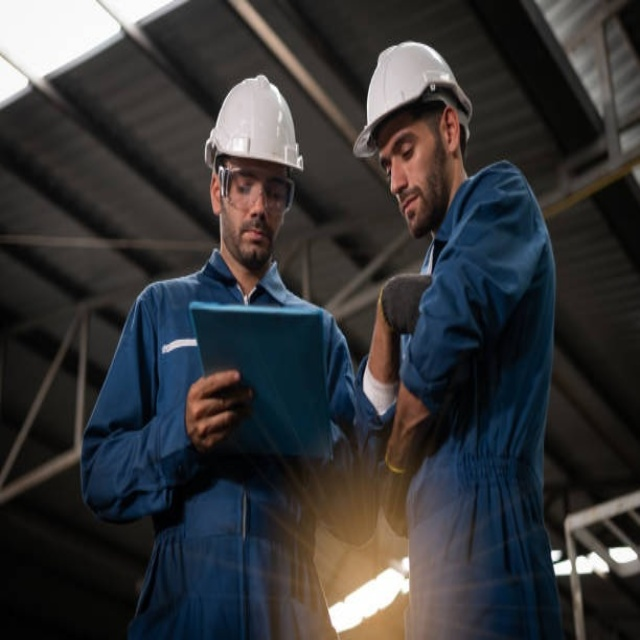Gafas: (218, 162, 297, 217)
Sin_gafas: (373, 123, 424, 184)
Sin_guantes: (185, 368, 255, 454)
Sin_mascara: (394, 187, 426, 231), (239, 220, 268, 258)
